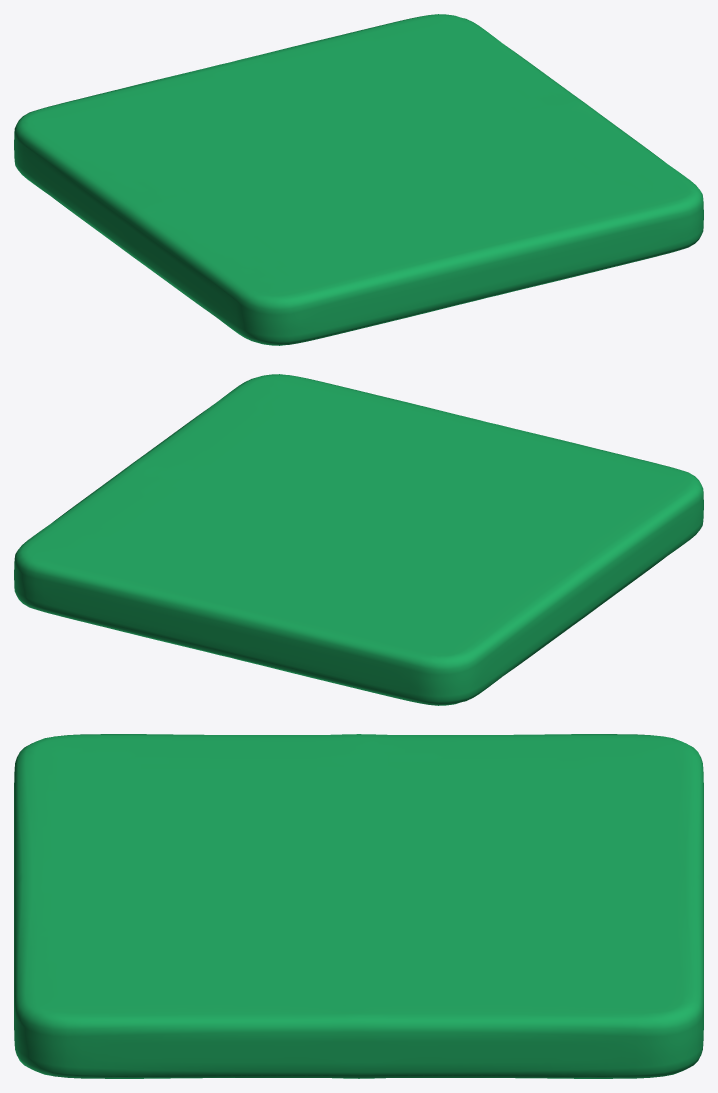
Rendered from building-store-animated-3d-icon-184117018018.glb.
3 views of the same model, one above another, from view 1: azimuth 30°, elevation 25°; view 2: azimuth 150°, elevation 25°; view 3: azimuth 270°, elevation 25° (orthographic). The views are drawn at different scales.
Visible parts, largest first — view 1: Land; view 2: Land; view 3: Land.
Boxes of the visible parts, box(x1,y1,x2,y2) form: Land: box(14, 14, 703, 345); Land: box(14, 374, 703, 705); Land: box(14, 734, 703, 1078).
Size of what is drawn, in the model's own units: 2 by 0.1981 by 2.
